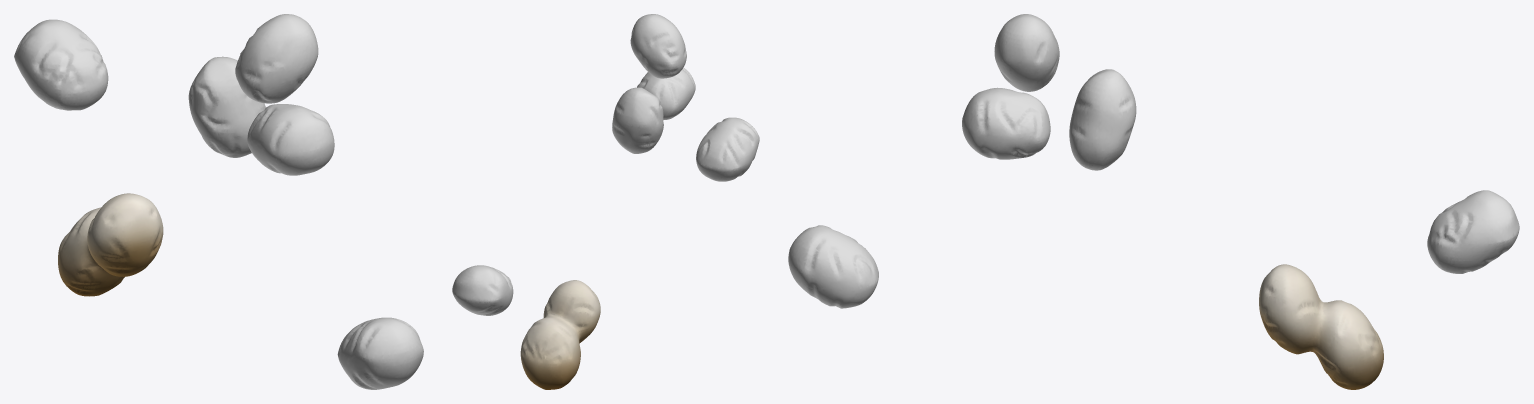
The model's file is Litter.fbx.
3 renders of one model, left to right at view 1: azimuth 30°, elevation 25°; view 2: azimuth 150°, elevation 25°; view 3: azimuth 270°, elevation 25°, orthographic. The views are drawn at different scales.
Parts seen in each view (by area): view 1: tripo_part_0, tripo_part_2, tripo_part_5, tripo_part_4, tripo_part_3, tripo_part_1; view 2: tripo_part_0, tripo_part_1, tripo_part_5, tripo_part_3, tripo_part_2, tripo_part_4; view 3: tripo_part_0, tripo_part_2, tripo_part_1, tripo_part_4, tripo_part_3, tripo_part_5.
Part boxes in pixels (box(x1,y1,x2,y2)): tripo_part_0: box(58, 193, 163, 296); tripo_part_2: box(14, 19, 108, 110); tripo_part_5: box(235, 14, 318, 103); tripo_part_4: box(247, 104, 334, 175); tripo_part_3: box(188, 56, 265, 157); tripo_part_1: box(337, 317, 423, 389); tripo_part_0: box(520, 280, 600, 389); tripo_part_1: box(696, 117, 759, 181); tripo_part_5: box(630, 14, 686, 78); tripo_part_3: box(612, 87, 663, 153); tripo_part_2: box(452, 265, 513, 315); tripo_part_4: box(637, 67, 695, 119); tripo_part_0: box(1259, 264, 1383, 389); tripo_part_2: box(1427, 190, 1519, 273); tripo_part_1: box(788, 225, 878, 308); tripo_part_4: box(962, 87, 1050, 159); tripo_part_3: box(1069, 69, 1136, 170); tripo_part_5: box(994, 14, 1059, 91).
Bounding box in the file's own units: 15.11 × 98.01 × 56.36.
1 material, 1 textured.
